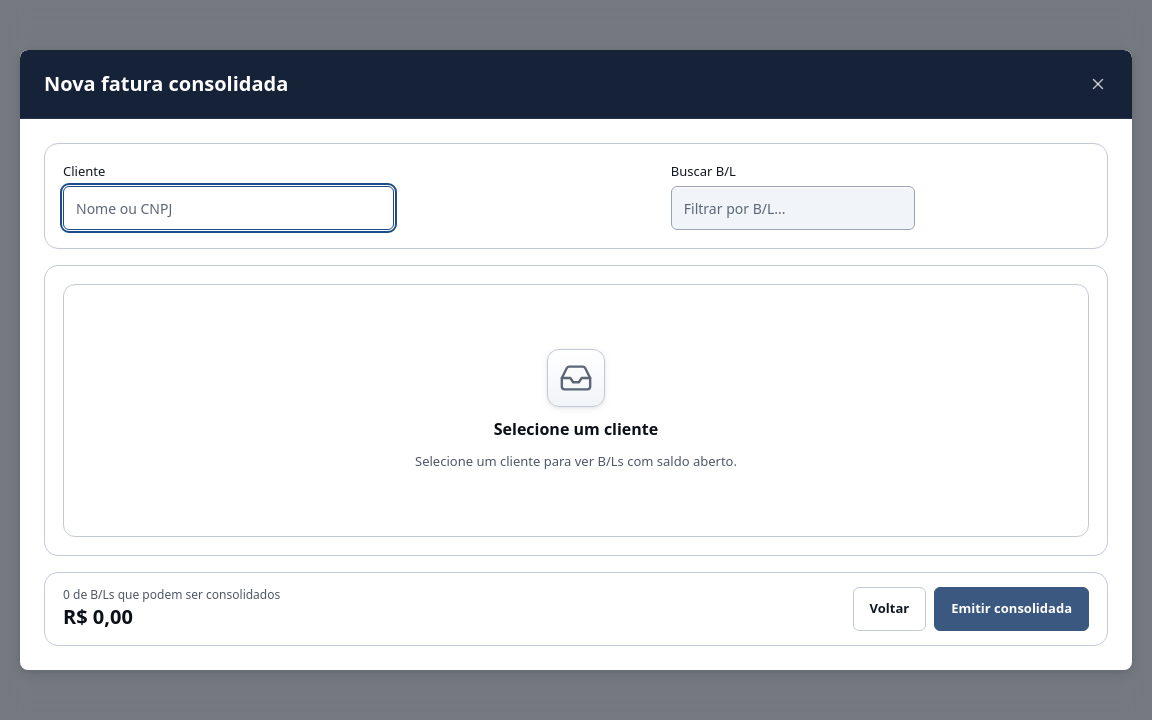
it: ConsolidatedInvoiceModal — seletor de cliente › busca o Cliente pelo Combobox comum e mostra o CNPJ com máscara
Step 1. Type "gol" into the dropdown labelled "Cliente" → x=229, y=208, box [63,186,394,230]
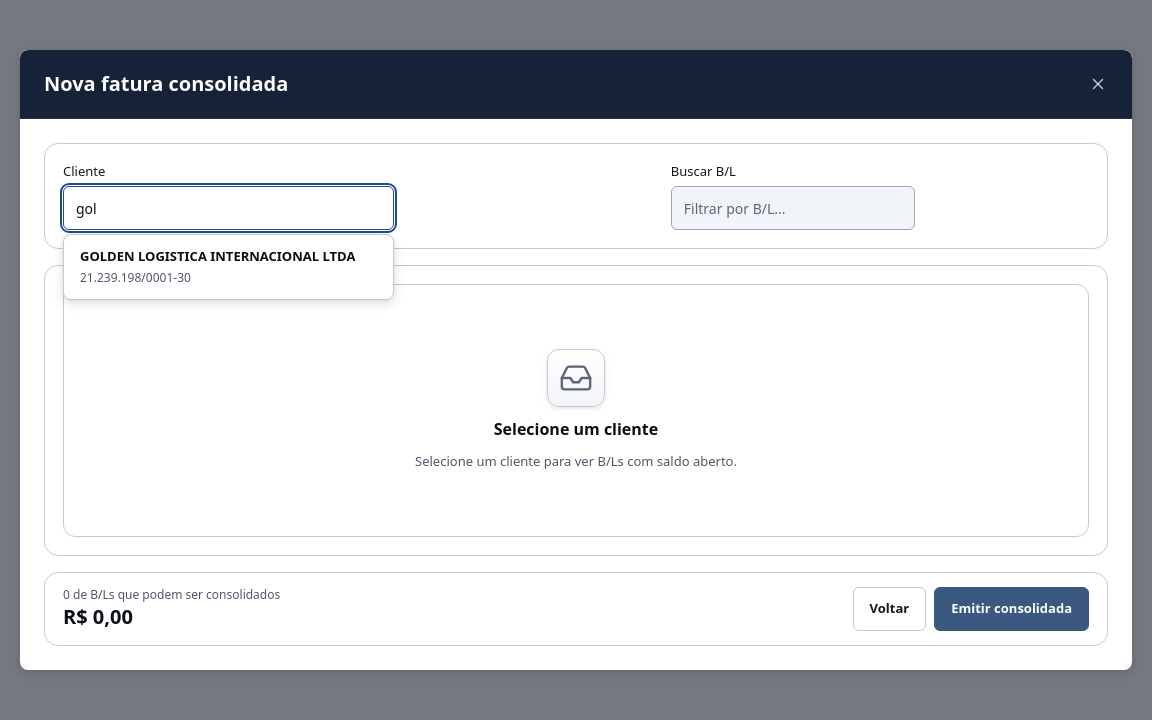
Result: the text "21.239.198/0001-30" is shown at [80,269,191,286]
Step 2. Click the text "GOLDEN LOGISTICA INTERNACIONAL LTDA" → x=229, y=257, box [80,247,377,267]
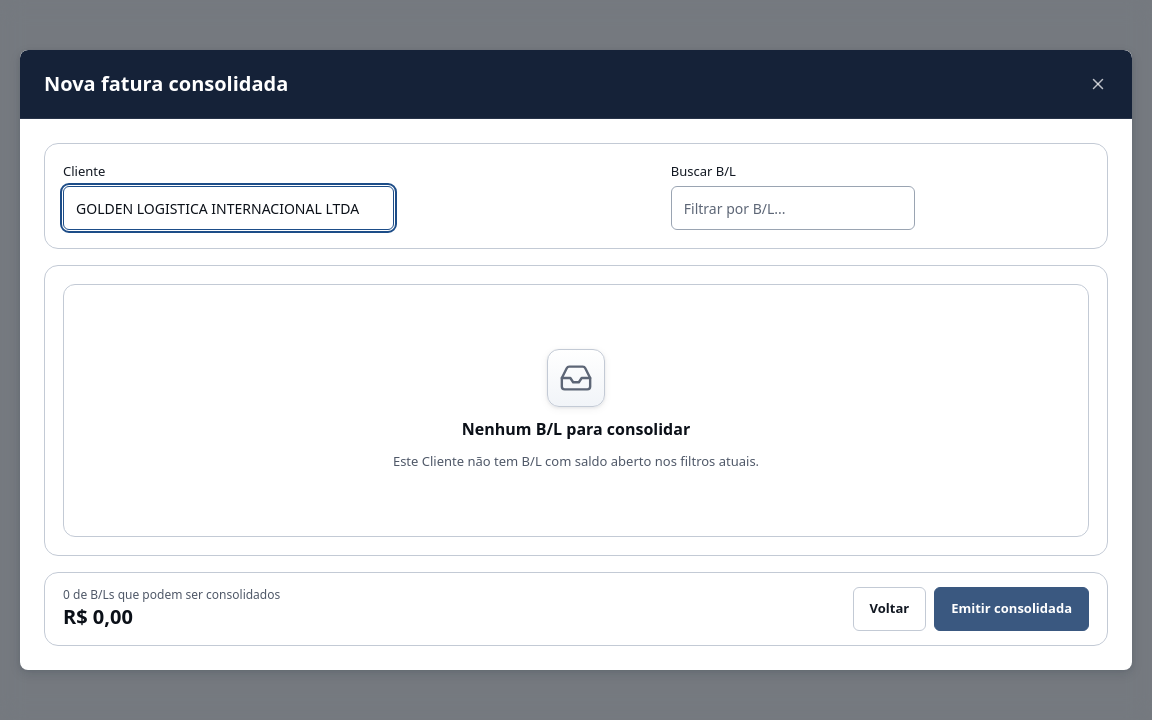
Result: the dropdown labelled "Cliente" holds "GOLDEN LOGISTICA INTERNACIONAL LTDA" at [63,186,394,230]
